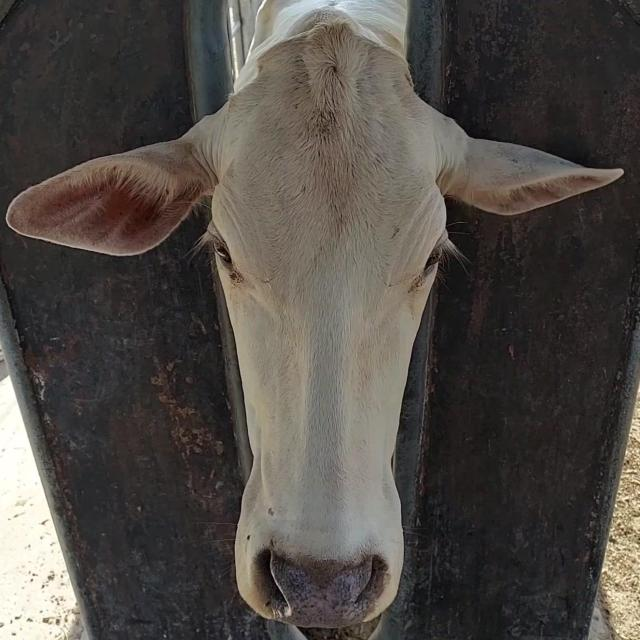cowFace: (201, 31, 445, 618)
